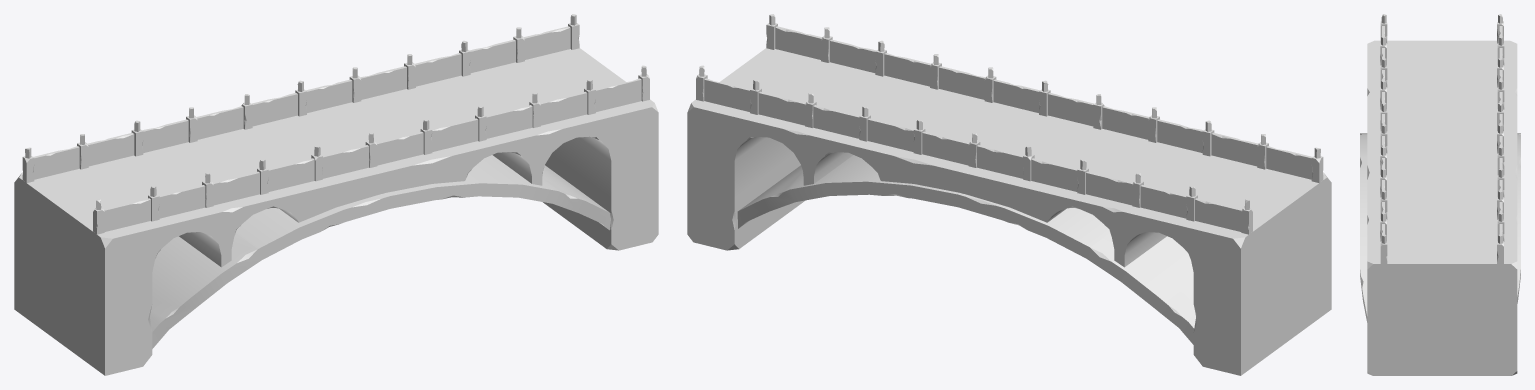
Rendered from SM_Bridge_03.fbx.
The picture shows the model from 3 angles, left to right: view 1: azimuth 30°, elevation 25°; view 2: azimuth 150°, elevation 25°; view 3: azimuth 270°, elevation 25°; orthographic projection. The views are drawn at different scales.
Parts seen in each view (by area): view 1: SM_Bridge_6; view 2: SM_Bridge_6; view 3: SM_Bridge_6.
Part boxes in pixels (x1,y1,x2,y2): SM_Bridge_6: (14, 14, 658, 375); SM_Bridge_6: (687, 14, 1331, 375); SM_Bridge_6: (1360, 14, 1520, 375).
Bounding box in the file's own units: 2739 × 794 × 833.
